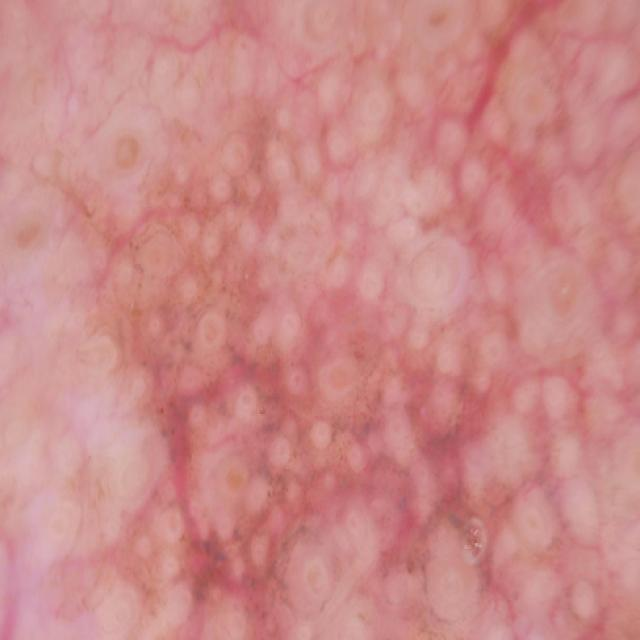Melanoma: (100, 117, 618, 640)
